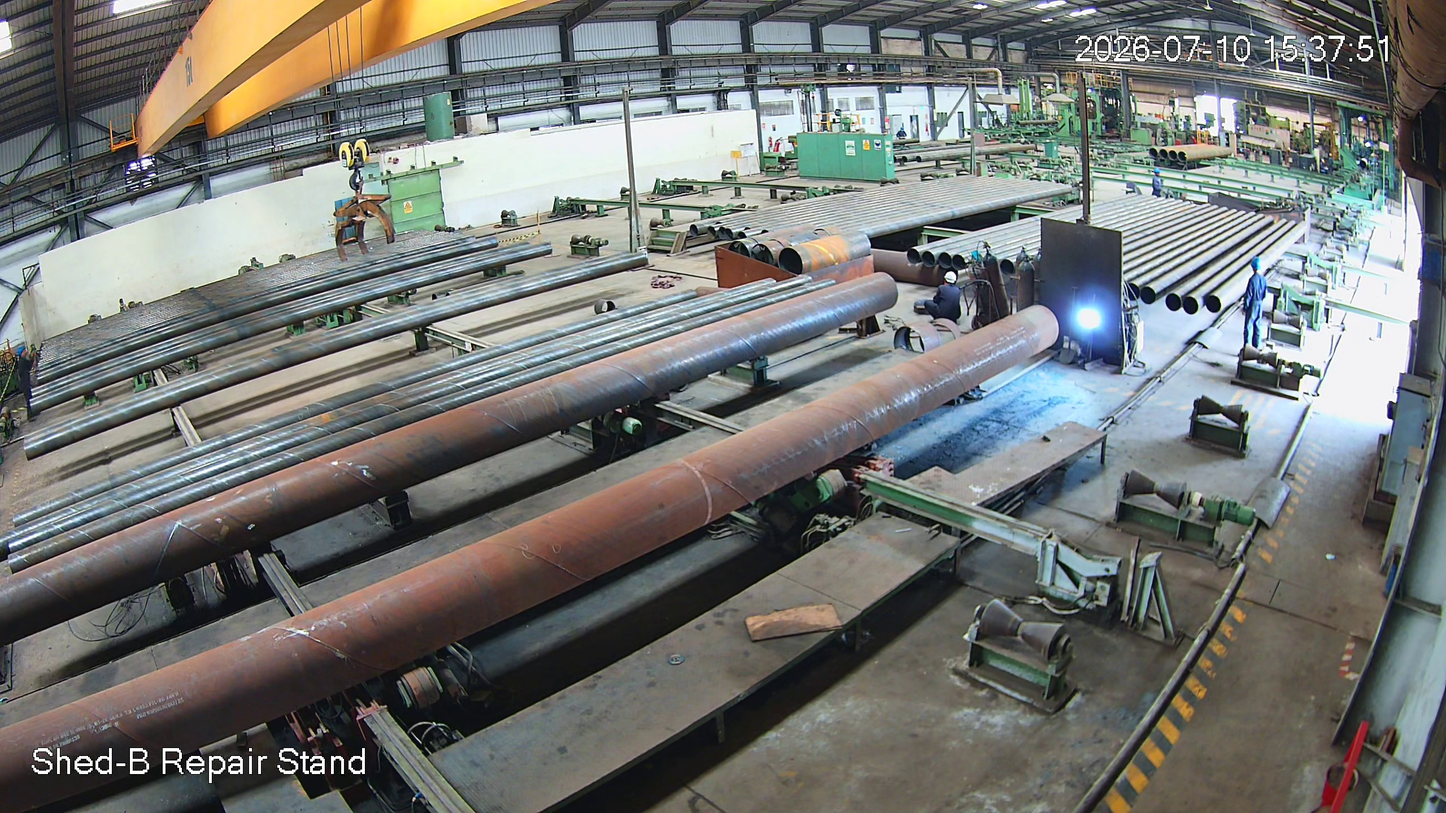Helmet: (943, 271, 962, 289), (1248, 253, 1260, 275)
Person: (1247, 256, 1268, 353), (928, 273, 959, 321)
